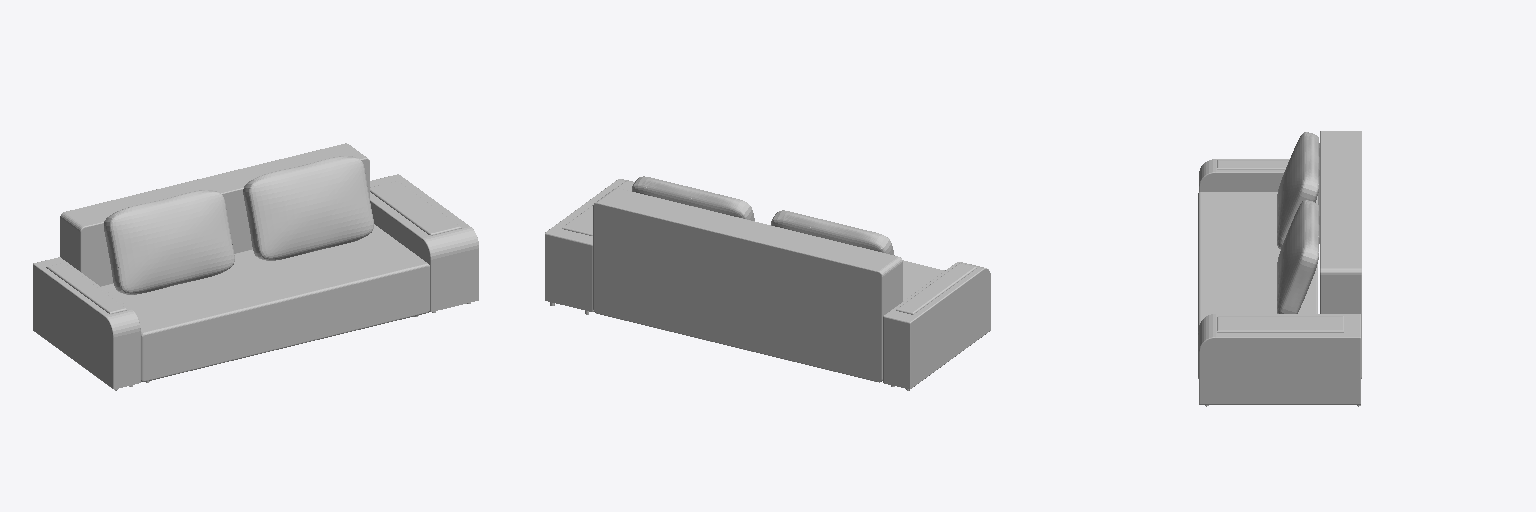
Rendered from couch.obj.
The picture shows the model from 3 angles: view 1: azimuth 30°, elevation 25°; view 2: azimuth 150°, elevation 25°; view 3: azimuth 270°, elevation 25°; orthographic projection.
Parts seen in each view (by area): view 1: Couch, Pillow_2, Pillow_2.001; view 2: Couch, Pillow_2.001, Pillow_2; view 3: Couch, Pillow_2.001, Pillow_2.
Part boxes in pixels (bbox=[...]): Couch: bbox=[33, 143, 478, 390]; Pillow_2: bbox=[104, 190, 234, 294]; Pillow_2.001: bbox=[243, 156, 373, 260]; Couch: bbox=[545, 179, 990, 390]; Pillow_2.001: bbox=[632, 176, 754, 220]; Pillow_2: bbox=[771, 210, 894, 255]; Couch: bbox=[1198, 131, 1361, 406]; Pillow_2.001: bbox=[1277, 200, 1319, 313]; Pillow_2: bbox=[1277, 132, 1319, 249].
Size of the model in its own units: 10.11 by 3.36 by 3.91.